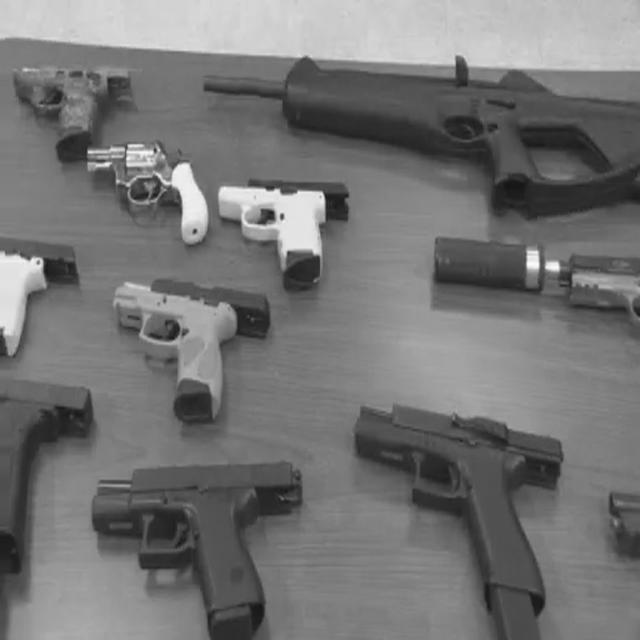Hand-Gun: (100, 442, 304, 624), (348, 415, 572, 562), (423, 220, 640, 368), (114, 276, 263, 412), (0, 374, 93, 558), (223, 153, 335, 280), (87, 134, 211, 246), (15, 57, 126, 147)
Rifle: (199, 39, 640, 210)
